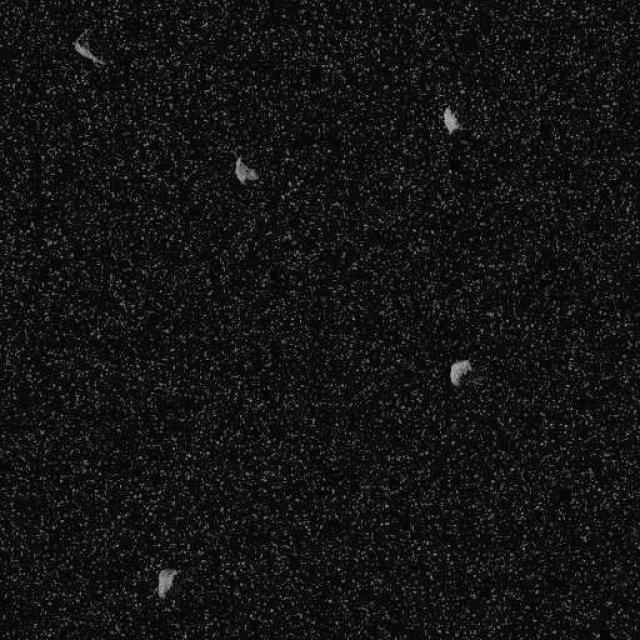D2: (72, 27, 106, 68), (232, 155, 258, 185), (155, 566, 177, 599), (448, 358, 472, 388), (440, 105, 461, 134)
